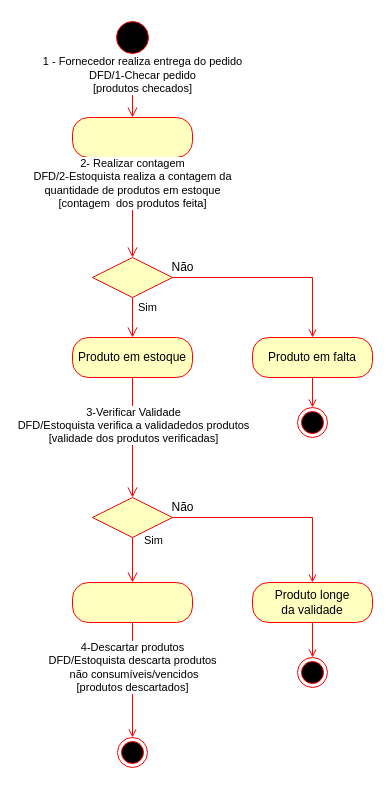
Image size: 390x785. Some labels were removed from this diagram. Each missing label, with the centre of its shape:
"Produto próximo da validade" belongs at point (132, 602).
"Produto registrado" belongs at point (132, 137).
